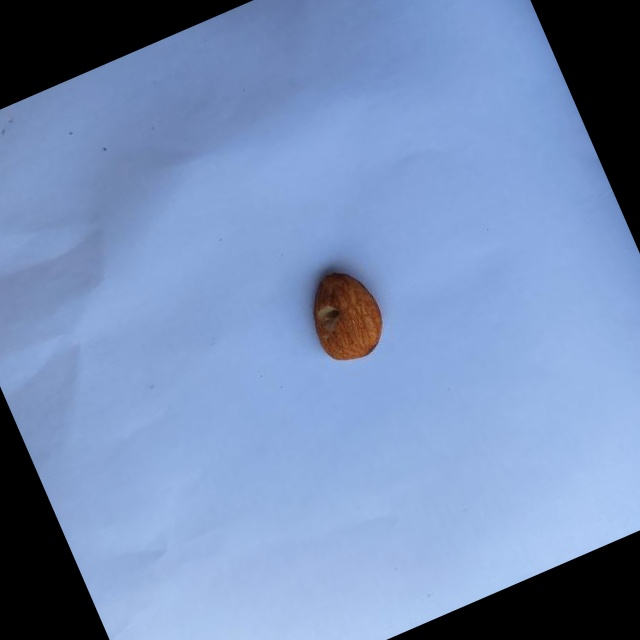grade3: (290, 256, 398, 376)
